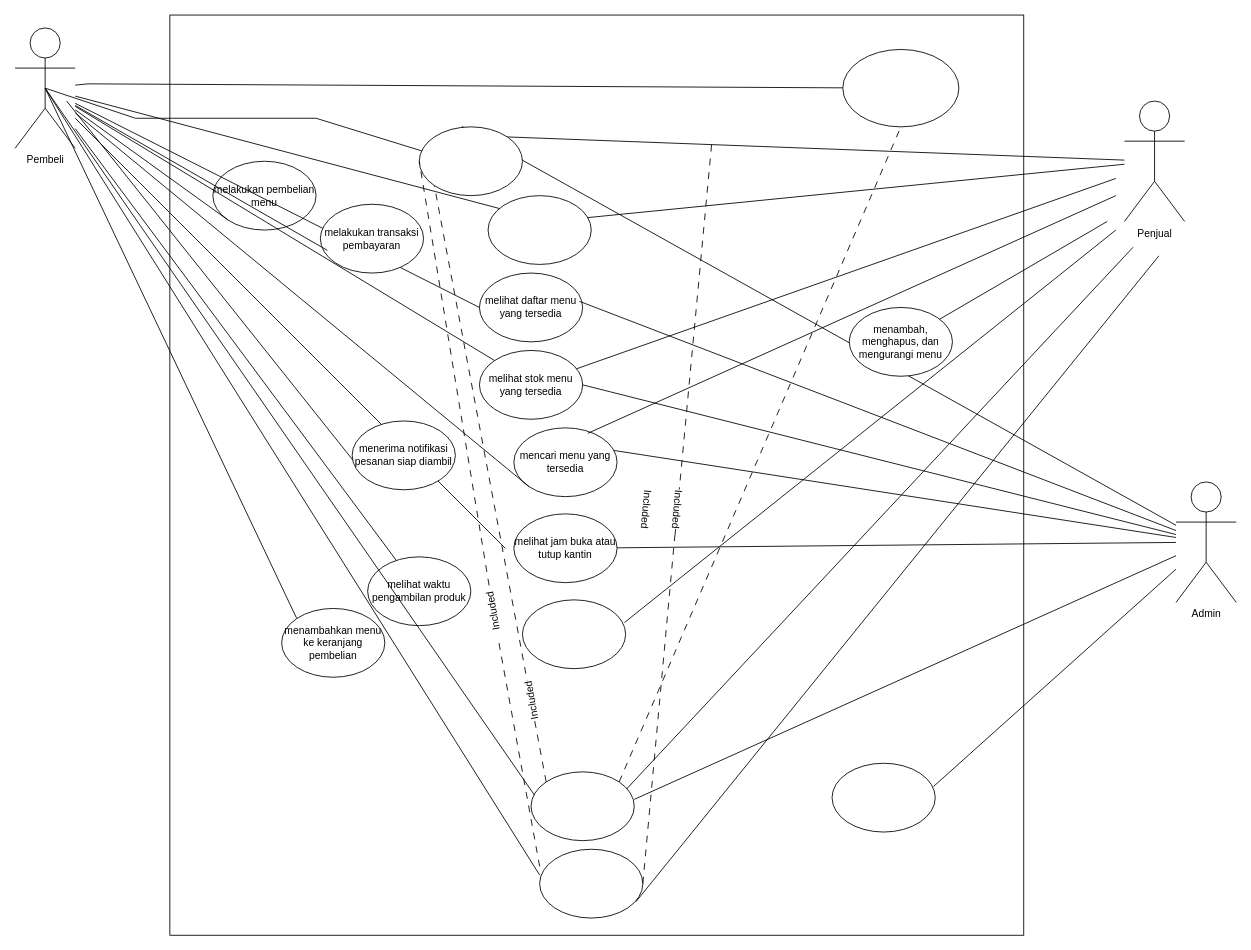
Some shapes in this 1251 by 950 pixel diagram are drawn without their labels. The centre of each missing label's shape, as x and y in pixels:
"log out" belongs at (x=582, y=806).
"login" belongs at (x=470, y=161).
"melihat nama kantin yang tersedia" belongs at (x=539, y=229).
"membuat akun" belongs at (x=900, y=88).
"membuat akun bagi penjual" belongs at (x=883, y=797).
"menghapus akun" belongs at (x=591, y=883).
"mengubah harga menu" belongs at (x=574, y=634).
